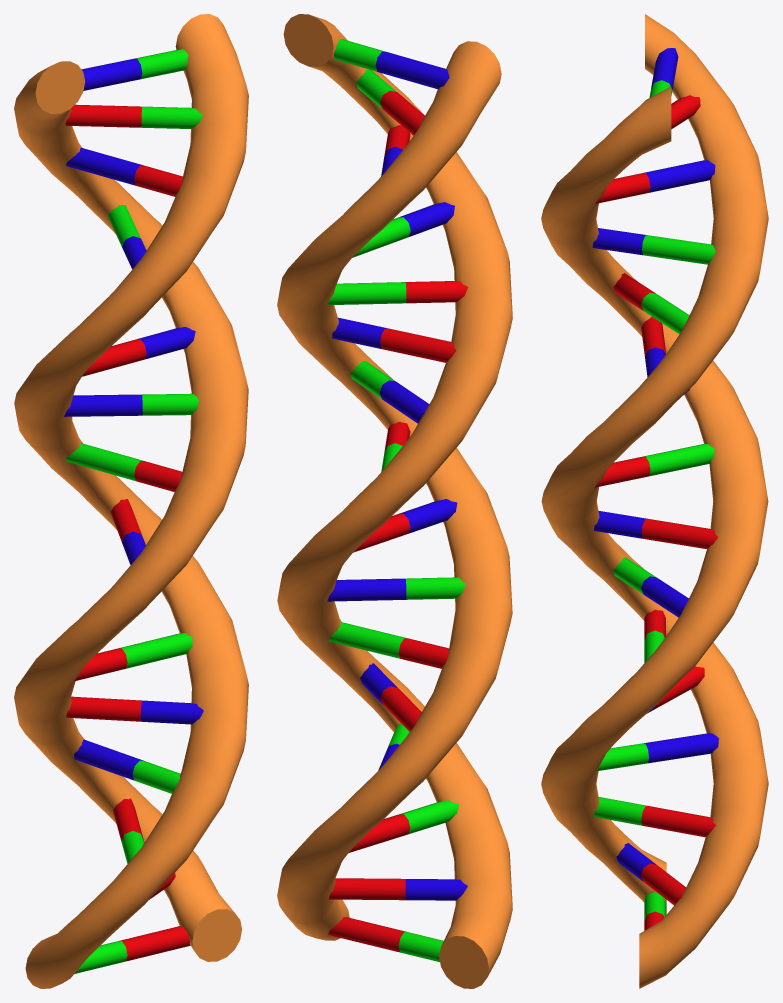
Rendered from DNA.fbx.
3 views of the same model, side by side, from view 1: azimuth 30°, elevation 25°; view 2: azimuth 150°, elevation 25°; view 3: azimuth 270°, elevation 25° (orthographic). The views are drawn at different scales.
Parts seen in each view (by area): view 1: DNA; view 2: DNA; view 3: DNA.
Part boxes in pixels (x1,y1,x2,y2): DNA: (14, 14, 248, 988); DNA: (277, 14, 512, 988); DNA: (541, 14, 768, 988).
Bounding box in the file's own units: 204 × 890 × 204.
